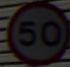Speed limit: (3, 1, 65, 58)
